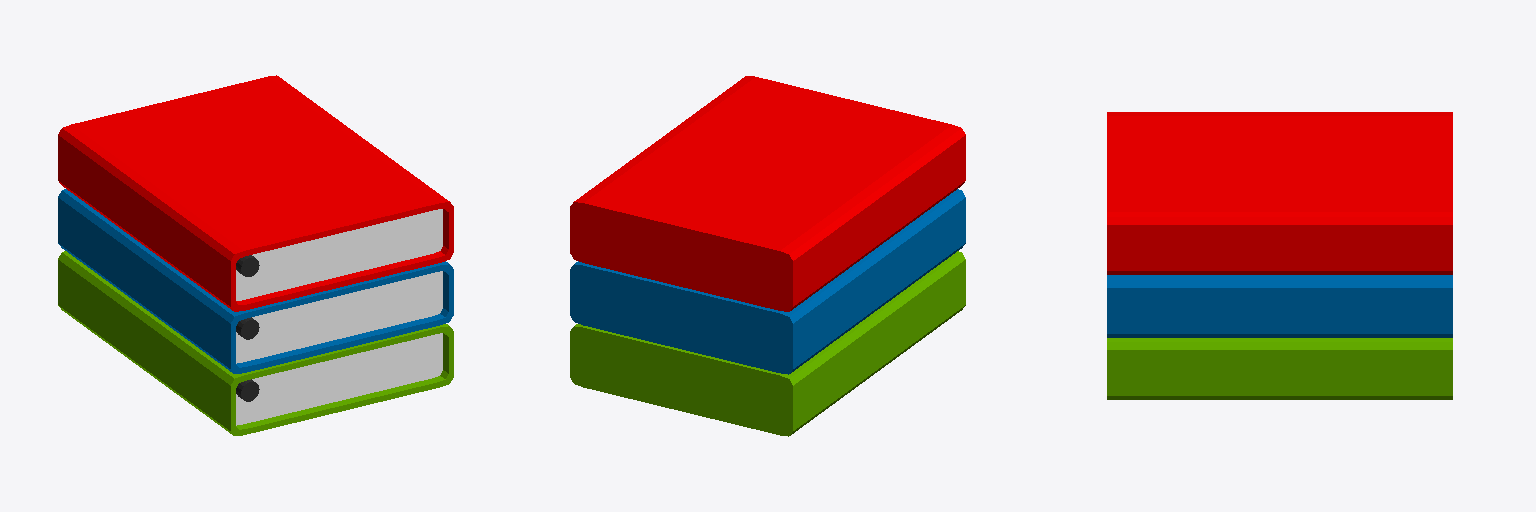
The picture shows the model from 3 angles: view 1: azimuth 30°, elevation 25°; view 2: azimuth 150°, elevation 25°; view 3: azimuth 270°, elevation 25°; orthographic projection.
Parts seen in each view (by area): view 1: harddisk_Cube.007; view 2: harddisk_Cube.007; view 3: harddisk_Cube.007.
Boxes of the visible parts, <box> form: harddisk_Cube.007: <box>58,75,453,435</box>; harddisk_Cube.007: <box>570,76,965,436</box>; harddisk_Cube.007: <box>1107,112,1452,399</box>.
Size of the model in its own units: 3.69 by 2.91 by 4.95.
1 materials, 1 textured.